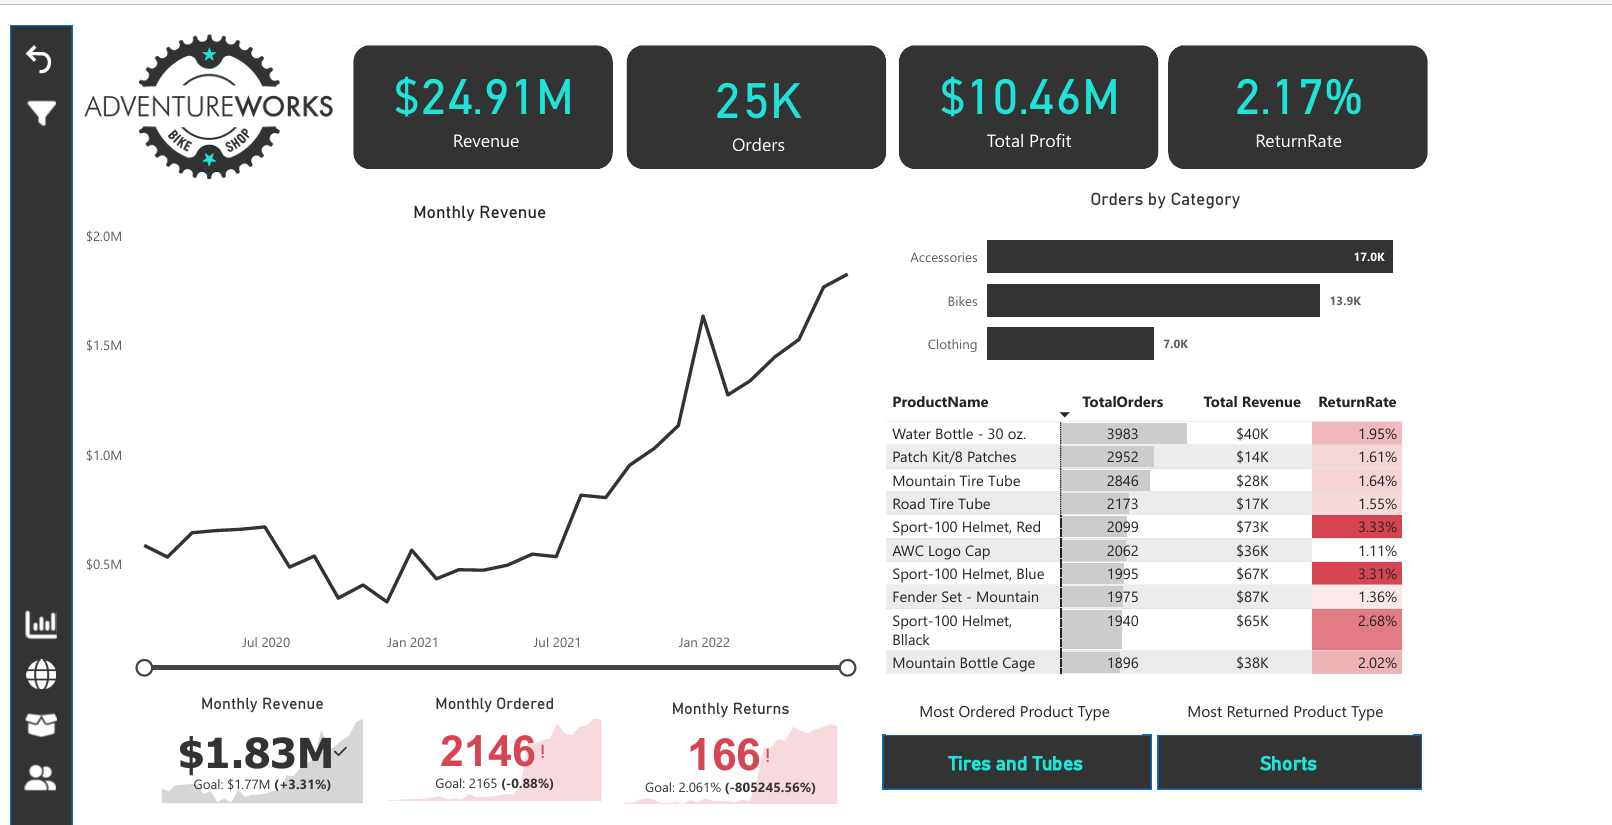

The page's visual inventory and layout, read from the dashboard file:
{"tool":"powerbi","page":{"name":"Overview","canvas":[1280,720],"ordinal":1},"visuals":[{"type":"image","title":"Logo","box":[12.9,0,331.4,147.1],"z":0},{"type":"group","id":"g1","title":"REVENUE","box":[308.6,18.6,233.5,111.4],"z":0,"group":"g6"},{"type":"shape","title":"Revenue bg","box":[308.6,18.6,233.5,111.4],"z":0,"group":"g1"},{"type":"shape","title":"Orders bg","box":[555,18.6,233.5,111.4],"z":0,"group":"g3"},{"type":"shape","title":"Profit  bg","box":[800.1,18.6,233.5,111.4],"z":0,"group":"g5"},{"type":"shape","title":"Return rate bg","box":[1042.2,18.6,233.5,111.4],"z":0,"group":"g7"},{"type":"actionButton","title":"Dashboard Icon","box":[0,520.8,56.8,36.3],"z":0,"group":"g10"},{"type":"kpi","title":"Monthly Revenue","fields":{"Indicator":["Table.Total Revenue"],"Goal":["Table.Previous Month Revenue"],"TrendLine":["Calendar Lookup.StartOfMonth"]},"box":[131.5,602,191.2,102.5],"z":0,"group":"g9"},{"type":"group","id":"g2","title":"Most Ordered Sub","box":[785,602,242.1,93.1],"z":0,"group":"g8"},{"type":"shape","title":"Most Ordered Sub-bd","box":[785,638.1,242.1,49.5],"z":0,"group":"g2"},{"type":"shape","title":"Most Returned Product Type-bd","box":[1032.2,638.1,238.1,49.5],"z":0,"group":"g4"},{"type":"shape","title":"Side Bar","box":[0,0,56.3,720.4],"z":1000},{"type":"group","id":"g3","title":"Orders","box":[555,18.6,233.5,111.4],"z":1000,"group":"g6"},{"type":"card","title":"Revenue VAL","fields":{"Values":["Table.Total Revenue"]},"box":[317.6,25.6,217.8,88.7],"z":1000,"group":"g1"},{"type":"card","title":"Profit VAL","fields":{"Values":["Table.Total Profit"]},"box":[809.1,25.6,217.8,88.7],"z":1000,"group":"g5"},{"type":"card","title":"Return rate VAL","fields":{"Values":["Table.ReturnRate"]},"box":[1051.2,25.6,217.8,88.7],"z":1000,"group":"g7"},{"type":"card","title":"Orders VAL","fields":{"Values":["Table.TotalOrders"]},"box":[565.2,29.5,217.8,88.7],"z":1000,"group":"g3"},{"type":"actionButton","title":"Map Icon","box":[0,567.1,56.8,34.7],"z":1000,"group":"g10"},{"type":"group","id":"g4","title":"Most Returned Product Type","box":[1030.7,602,239.6,93.1],"z":1000,"group":"g8"},{"type":"kpi","title":"Monthly Returns","fields":{"Goal":["Table.Previous Month Return"],"TrendLine":["Calendar Lookup.StartOfMonth"],"Indicator":["Table.TotalReturns"]},"box":[547.5,606.4,201.6,98.4],"z":1000,"group":"g9"},{"type":"card","title":"Most Ordered Sub-vl","fields":{"Values":["Min(Product Subcategories Lookup.SubcategoryName)"]},"box":[786.6,633.5,236.7,61.6],"z":1000,"group":"g2"},{"type":"card","title":"Most Returned Product Type-vl","fields":{"Values":["Min(Product Subcategories Lookup.SubcategoryName)"]},"box":[1030.7,633.5,238.3,61.6],"z":1000,"group":"g4"},{"type":"actionButton","box":[8.2,13.2,47.8,34.6],"z":2000},{"type":"group","id":"g5","title":"Profit","box":[800.1,18.6,233.5,111.4],"z":2000,"group":"g6"},{"type":"textbox","title":"Most Ordered Sub-vlText box","box":[789,602,230.1,35.7],"z":2000,"group":"g2"},{"type":"textbox","title":"Most Returned Product Type","box":[1031.6,602,230.1,35.7],"z":2000,"group":"g4"},{"type":"kpi","title":"Monthly Ordered","fields":{"TrendLine":["Calendar Lookup.StartOfMonth"],"Indicator":["Table.TotalOrders"],"Goal":["Table.Previous Month ordered"]},"box":[335.5,602.2,201.6,100.5],"z":2000,"group":"g9"},{"type":"actionButton","title":"Costomer Icon","box":[1.6,658.1,52.1,36.3],"z":2000,"group":"g10"},{"type":"group","id":"g6","title":"Cards","box":[308.6,18.6,967.1,111.4],"z":3000},{"type":"group","id":"g7","title":"Return","box":[1042.2,18.6,233.5,111.4],"z":3000,"group":"g6"},{"type":"actionButton","title":"product icon","box":[0,611.8,56.8,36.3],"z":3000,"group":"g10"},{"type":"clusteredBarChart","title":"Orders by Category","fields":{"Category":["Product Categories Lookup.CategoryName"],"Y":["Table.TotalOrders"]},"box":[800,147.5,480,176.2],"z":4000},{"type":"lineChart","title":"Monthly Revenue ","fields":{"Category":["Calendar Lookup.End of Month"],"Y":["Table.Total Revenue"]},"box":[62.5,157.5,720,431.2],"z":5000},{"type":"tableEx","title":"Top 10 product orders","fields":{"Values":["Product Lookup.ProductName","Table.TotalOrders","Table.Total Revenue","Table.ReturnRate"]},"box":[782.5,323.8,497.5,265],"z":6000},{"type":"group","id":"g8","title":"Most Product Type","box":[785,602,485.2,93.1],"z":7000},{"type":"group","id":"g9","title":"Kpis","box":[131.5,602,617.7,103.8],"z":8000},{"type":"group","id":"g10","title":"Icons","box":[0,520.8,56.8,173.6],"z":9000},{"type":"actionButton","title":"Filter Icon","box":[6.3,63,45.8,33.3],"z":10000}]}

Visuals, with their boxes on the page's 1280x720 design canvas (x1, y1, x2, y2). These are canvas units, not pixel positions in the 1612x825 screenshot, which may show the page scaled, cropped or inside an application window:
"Logo" image: 13,0,344,147
"REVENUE" group: 309,19,542,130
"Revenue bg" shape: 309,19,542,130
"Orders bg" shape: 555,19,788,130
"Profit  bg" shape: 800,19,1034,130
"Return rate bg" shape: 1042,19,1276,130
"Dashboard Icon" actionButton: 0,521,57,557
"Monthly Revenue" kpi: 132,602,323,704
"Most Ordered Sub" group: 785,602,1027,695
"Most Ordered Sub-bd" shape: 785,638,1027,688
"Most Returned Product Type-bd" shape: 1032,638,1270,688
"Side Bar" shape: 0,0,56,720
"Orders" group: 555,19,788,130
"Revenue VAL" card: 318,26,535,114
"Profit VAL" card: 809,26,1027,114
"Return rate VAL" card: 1051,26,1269,114
"Orders VAL" card: 565,30,783,118
"Map Icon" actionButton: 0,567,57,602
"Most Returned Product Type" group: 1031,602,1270,695
"Monthly Returns" kpi: 548,606,749,705
"Most Ordered Sub-vl" card: 787,634,1023,695
"Most Returned Product Type-vl" card: 1031,634,1269,695
actionButton: 8,13,56,48
"Profit" group: 800,19,1034,130
"Most Ordered Sub-vlText box" textbox: 789,602,1019,638
"Most Returned Product Type" textbox: 1032,602,1262,638
"Monthly Ordered" kpi: 336,602,537,703
"Costomer Icon" actionButton: 2,658,54,694
"Cards" group: 309,19,1276,130
"Return" group: 1042,19,1276,130
"product icon" actionButton: 0,612,57,648
"Orders by Category" clusteredBarChart: 800,148,1280,324
"Monthly Revenue " lineChart: 62,158,782,589
"Top 10 product orders" tableEx: 782,324,1280,589
"Most Product Type" group: 785,602,1270,695
"Kpis" group: 132,602,749,706
"Icons" group: 0,521,57,694
"Filter Icon" actionButton: 6,63,52,96
